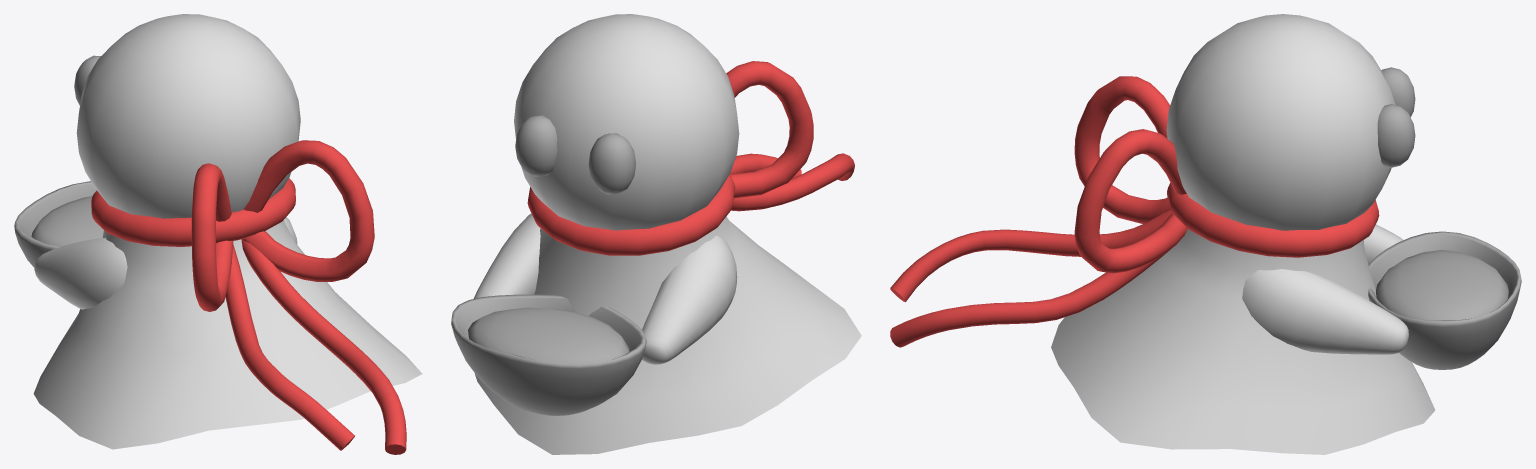
Rendered from wisp_with_arms_fully_separated.fbx.
3 views of the same model, side by side, from view 1: azimuth 30°, elevation 25°; view 2: azimuth 150°, elevation 25°; view 3: azimuth 270°, elevation 25° (orthographic). The views are drawn at different scales.
Parts seen in each view (by area): view 1: polySurface487, polySurface486, polySurface482, polySurface477, polySurface479, polySurface483, polySurface485, polySurface478, pCube2, pCube1, pCube5; view 2: polySurface487, polySurface486, pCube1, polySurface485, pCube2, polySurface479, polySurface483, polySurface484, polySurface478, pCube5, pCube4, polySurface477; view 3: polySurface487, polySurface486, polySurface484, pCube1, pCube2, polySurface482, polySurface479, polySurface477, polySurface483, polySurface478, pCube4, pCube5 (+1 smaller).
Part boxes in pixels (<box>): polySurface487: <box>33,220,422,449</box>; polySurface486: <box>76,14,300,218</box>; polySurface482: <box>243,140,374,281</box>; polySurface477: <box>241,238,406,454</box>; polySurface479: <box>91,178,295,246</box>; polySurface483: <box>191,163,233,311</box>; polySurface485: <box>34,237,127,309</box>; polySurface478: <box>225,245,354,450</box>; pCube2: <box>31,196,103,246</box>; pCube1: <box>14,181,96,267</box>; pCube5: <box>74,55,100,105</box>; polySurface487: <box>475,216,861,454</box>; polySurface486: <box>514,14,739,230</box>; pCube1: <box>451,294,646,415</box>; polySurface485: <box>642,235,737,364</box>; pCube2: <box>468,307,629,363</box>; polySurface479: <box>527,174,735,255</box>; polySurface483: <box>726,61,813,198</box>; polySurface484: <box>473,213,540,298</box>; polySurface478: <box>731,153,854,211</box>; pCube5: <box>588,133,635,194</box>; pCube4: <box>515,115,557,176</box>; polySurface477: <box>730,153,801,178</box>; polySurface487: <box>1051,229,1435,454</box>; polySurface486: <box>1166,14,1395,230</box>; polySurface484: <box>1242,269,1408,354</box>; pCube1: <box>1368,231,1521,369</box>; pCube2: <box>1375,250,1508,320</box>; polySurface482: <box>1074,129,1187,273</box>; polySurface479: <box>1167,183,1379,257</box>; polySurface477: <box>890,248,1171,347</box>; polySurface483: <box>1074,76,1171,223</box>; polySurface478: <box>890,210,1172,302</box>; pCube4: <box>1377,104,1415,167</box>; pCube5: <box>1381,67,1415,116</box>.
Bounding box in the file's own units: 17.88 × 19.52 × 28.98.
